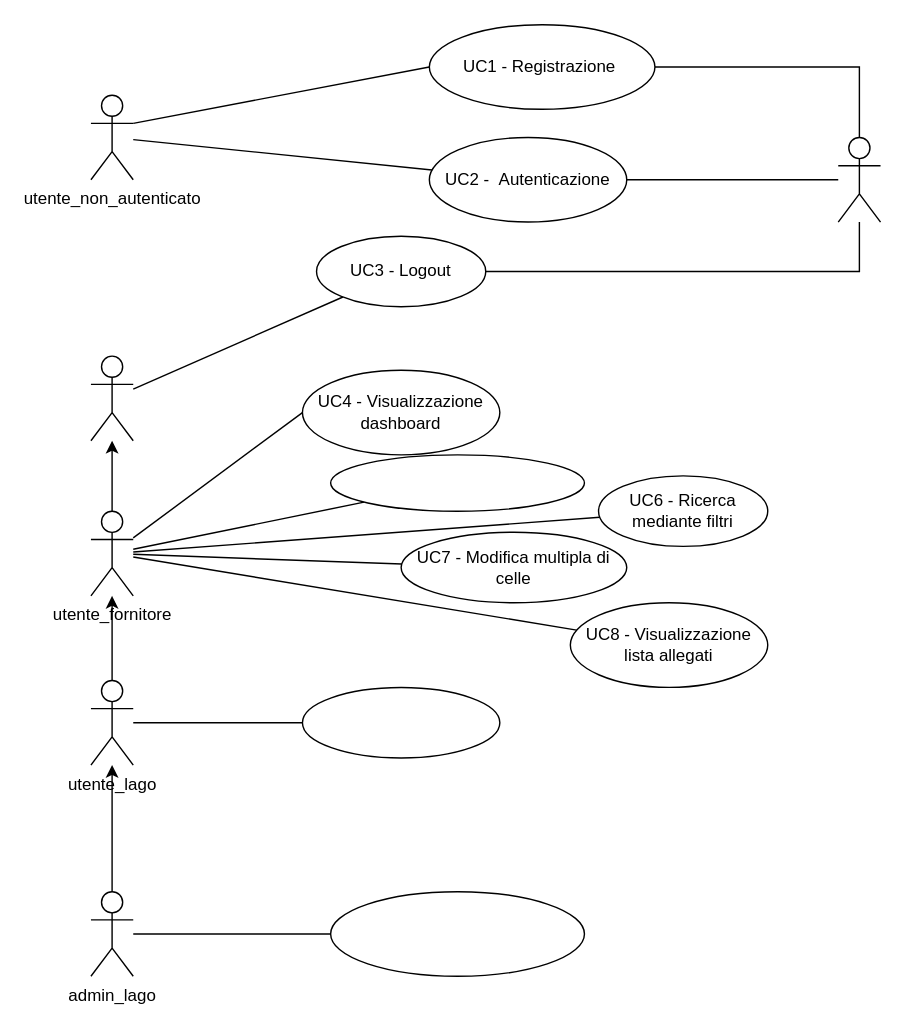
Image size: 911x1031. Some labels were removed from this diagram. The shapes that lost their labels are listed below. From the top down, each one's centre as x and y in pixels, then its label:
pixel 859 179: Google
pixel 111 398: utente_autenticato
pixel 456 482: UC5 - Modifica campi ordini
pixel 400 722: UC9 - Visualizzazione lista fornitori
pixel 456 933: UC10 - Visualizzazione lista utenti
